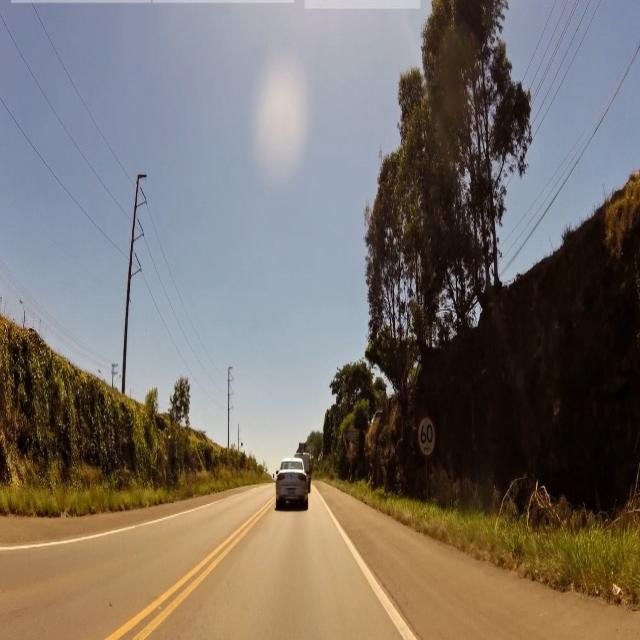R-19: (418, 416, 438, 460)
